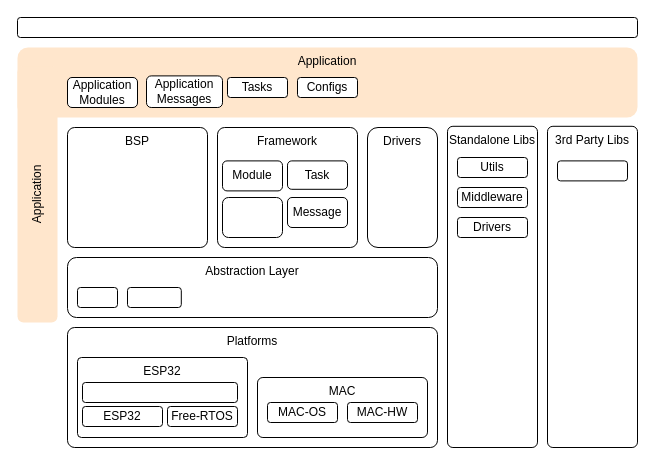
This 655x465 diagram has some shape labels left out. The shapes that lost their labels are listed below. From the top down, each one's centre as x and y in pixels, then its label:
the point at 327,27: Product
the point at 592,170: Libs
the point at 252,217: Message Handler
the point at 97,297: PAL
the point at 153,297: OSAL
the point at 160,392: ESP-IDF
